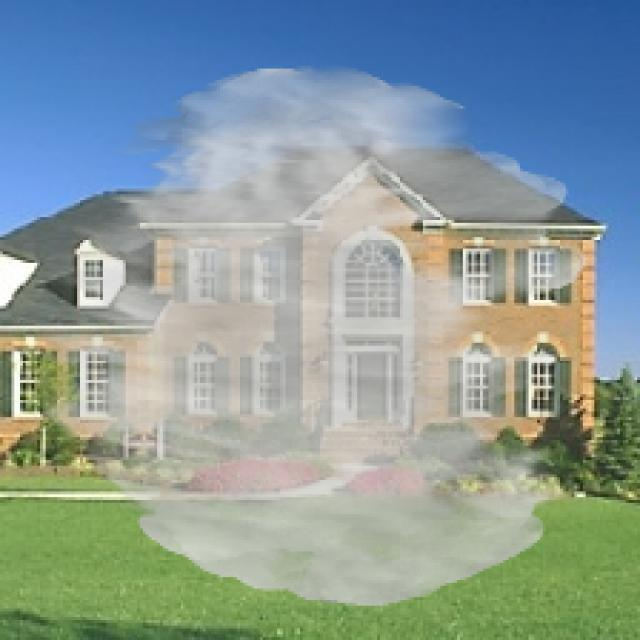Smoke: (37, 65, 589, 606)
